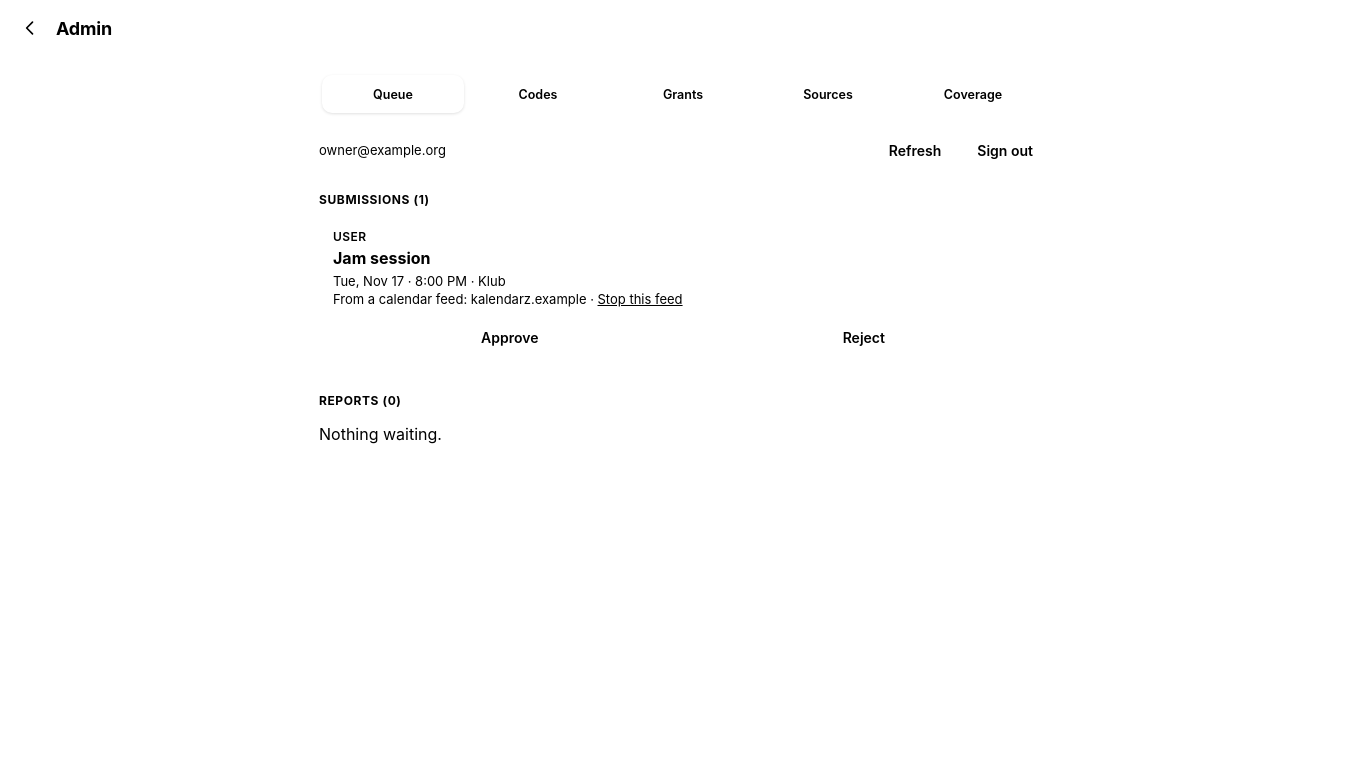
a feed in the moderation queue (M12 §4.6) › names the feed, and lets an admin stop it
The image size is (1366, 768).
Expected: the text "From a calendar feed: kalendarz.example · Stop this feed" is shown, [333,291,683,307]
Click the button "Stop this feed".
click(640, 299)  # box [598,291,682,307]
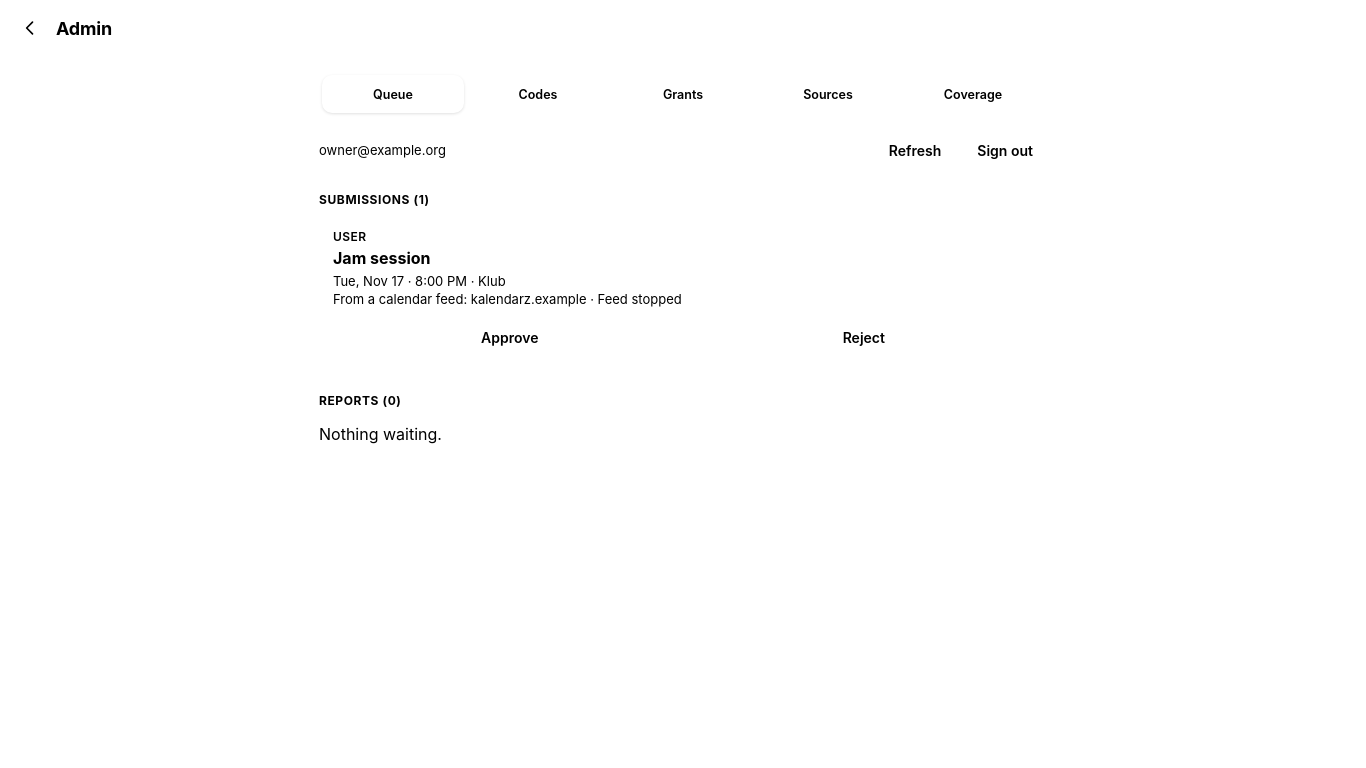
Now the text "From a calendar feed: kalendarz.example · Feed stopped" is shown, box [333,291,682,307]
